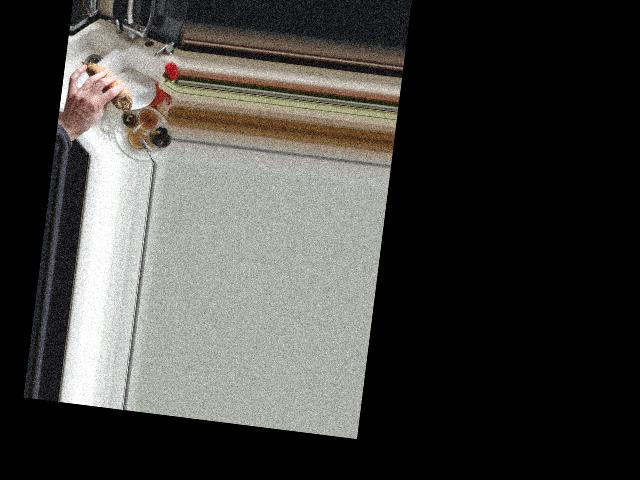sweet_potato: (75, 61, 135, 111)
